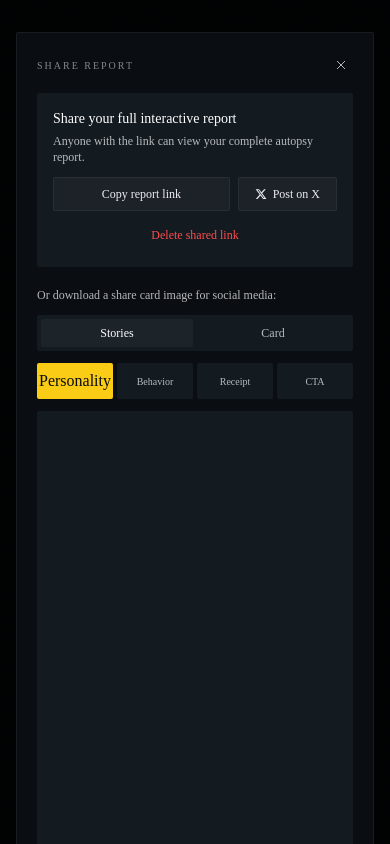
Test: ShareModal existing-link privacy control › shows and revokes an active link from a past session without minting on mount
The width and height of the screenshot is (390, 844).
What coordinates should you click on to do the following:
click the button "Delete shared link"
I would click on:
 (195, 235)
Its box is top-left (53, 219), bottom-right (337, 251).
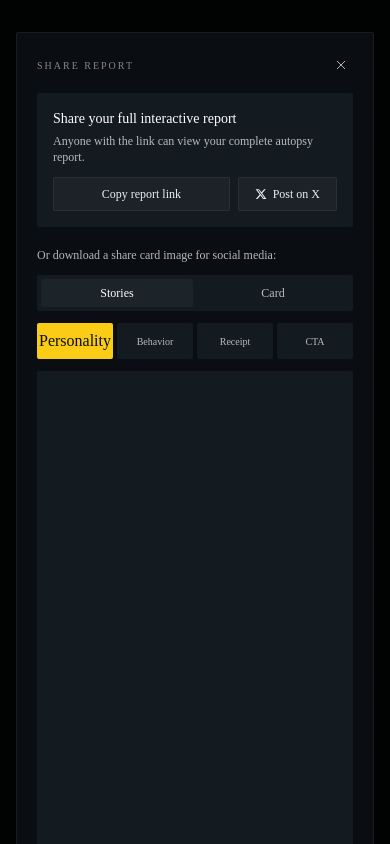
Check: the button "Delete shared link" is gone
